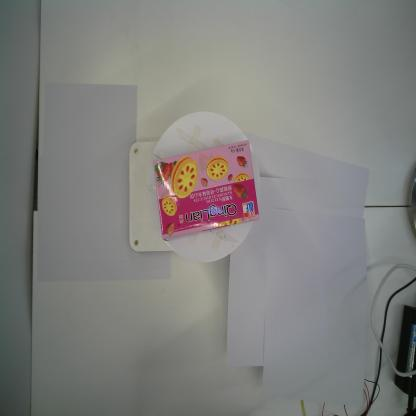Dessert: (151, 138, 261, 244)
